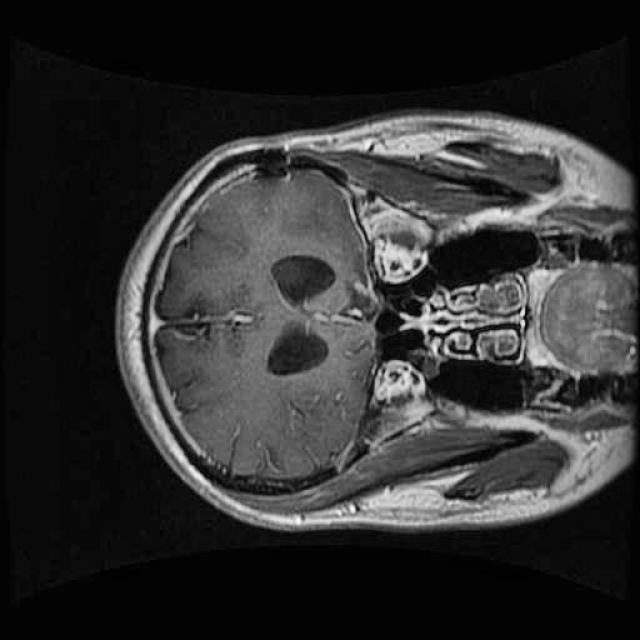Tumor: (328, 274, 387, 332)
